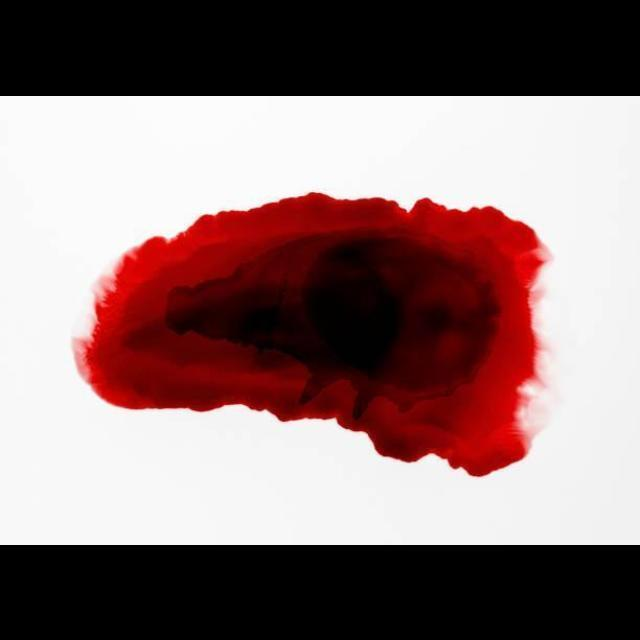blood: (70, 193, 552, 478)
